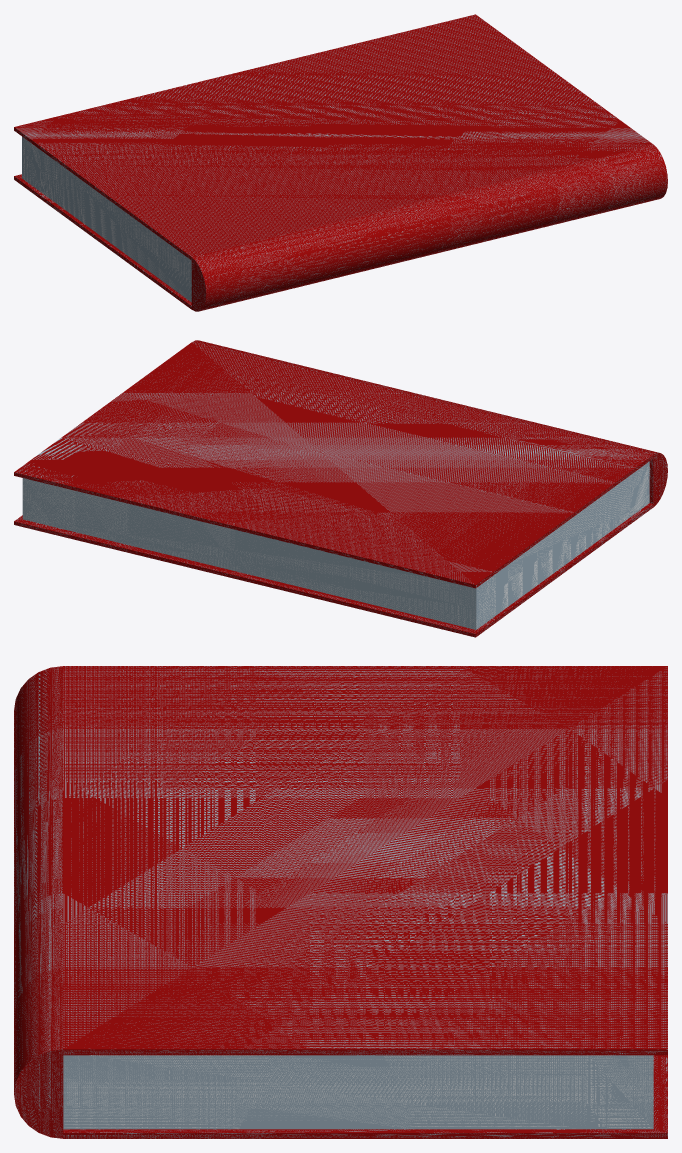
Rendered from book.fbx.
3 views of the same model, one above another, from view 1: azimuth 30°, elevation 25°; view 2: azimuth 150°, elevation 25°; view 3: azimuth 270°, elevation 25° (orthographic). The views are drawn at different scales.
Visible parts, largest first — view 1: Model; view 2: Model; view 3: Model.
Boxes of the visible parts, x1,y1,x2,y2 form: Model: (14,14,667,311); Model: (14,340,667,637); Model: (14,666,667,1138).
Bounding box in the file's own units: 7.53 × 0.82 × 5.43.
